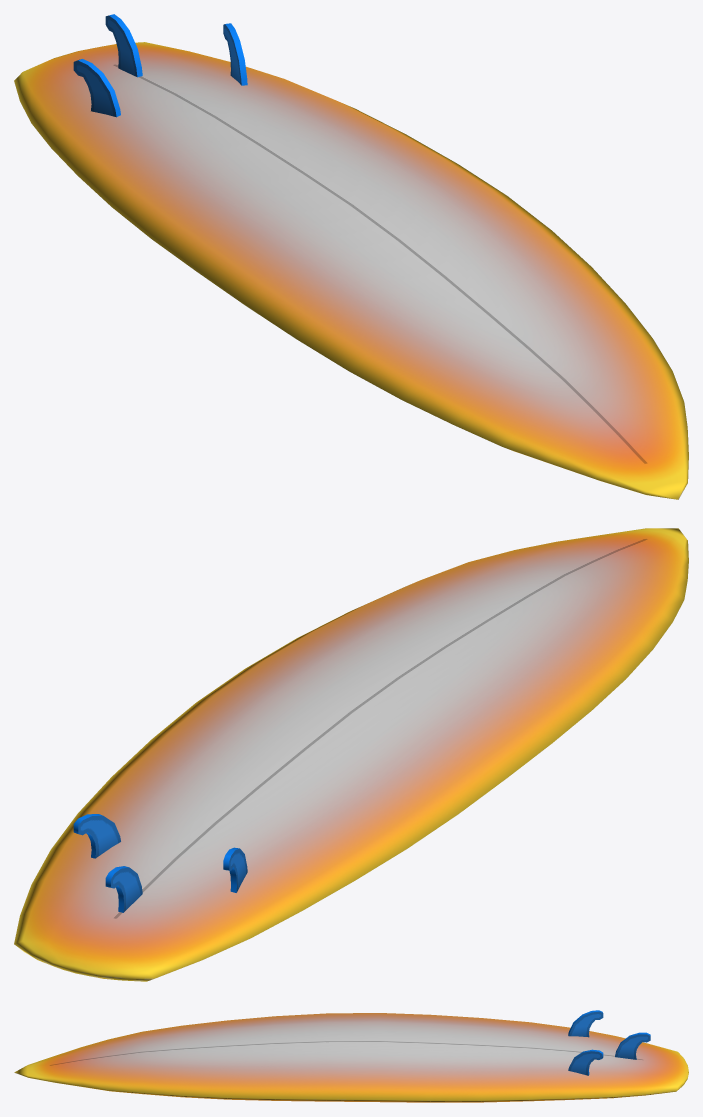
File: surfboard.fbx
The picture shows the model from 3 angles, top to bottom: view 1: azimuth 30°, elevation 25°; view 2: azimuth 150°, elevation 25°; view 3: azimuth 270°, elevation 25°; orthographic projection. The views are drawn at different scales.
Visible parts, largest first — view 1: surfboard_mesh; view 2: surfboard_mesh; view 3: surfboard_mesh.
Boxes of the visible parts, bbox=[...] form: surfboard_mesh: bbox=[14, 14, 688, 499]; surfboard_mesh: bbox=[14, 528, 688, 981]; surfboard_mesh: bbox=[14, 1010, 688, 1102].
Size of the model in its own units: 0.592 by 0.1546 by 1.99.
